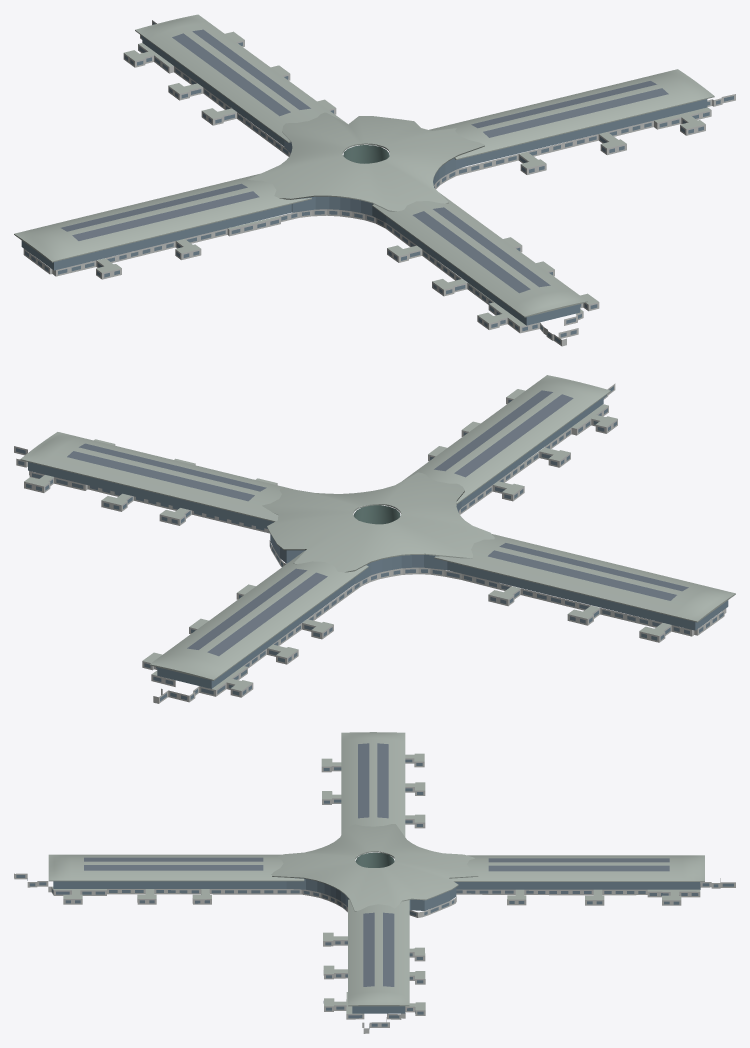
File: kl-klia-satellite-a.glb
The picture shows the model from 3 angles, top to bottom: view 1: azimuth 30°, elevation 25°; view 2: azimuth 150°, elevation 25°; view 3: azimuth 270°, elevation 25°; orthographic projection. The views are drawn at different scales.
Parts seen in each view (by area): view 1: KLIA Satellite Building A; view 2: KLIA Satellite Building A; view 3: KLIA Satellite Building A.
Part boxes in pixels (bbox=[...]): KLIA Satellite Building A: bbox=[14, 14, 735, 346]; KLIA Satellite Building A: bbox=[14, 375, 735, 703]; KLIA Satellite Building A: bbox=[14, 732, 735, 1033].
Bounding box in the file's own units: 659 × 27.7 × 705.
